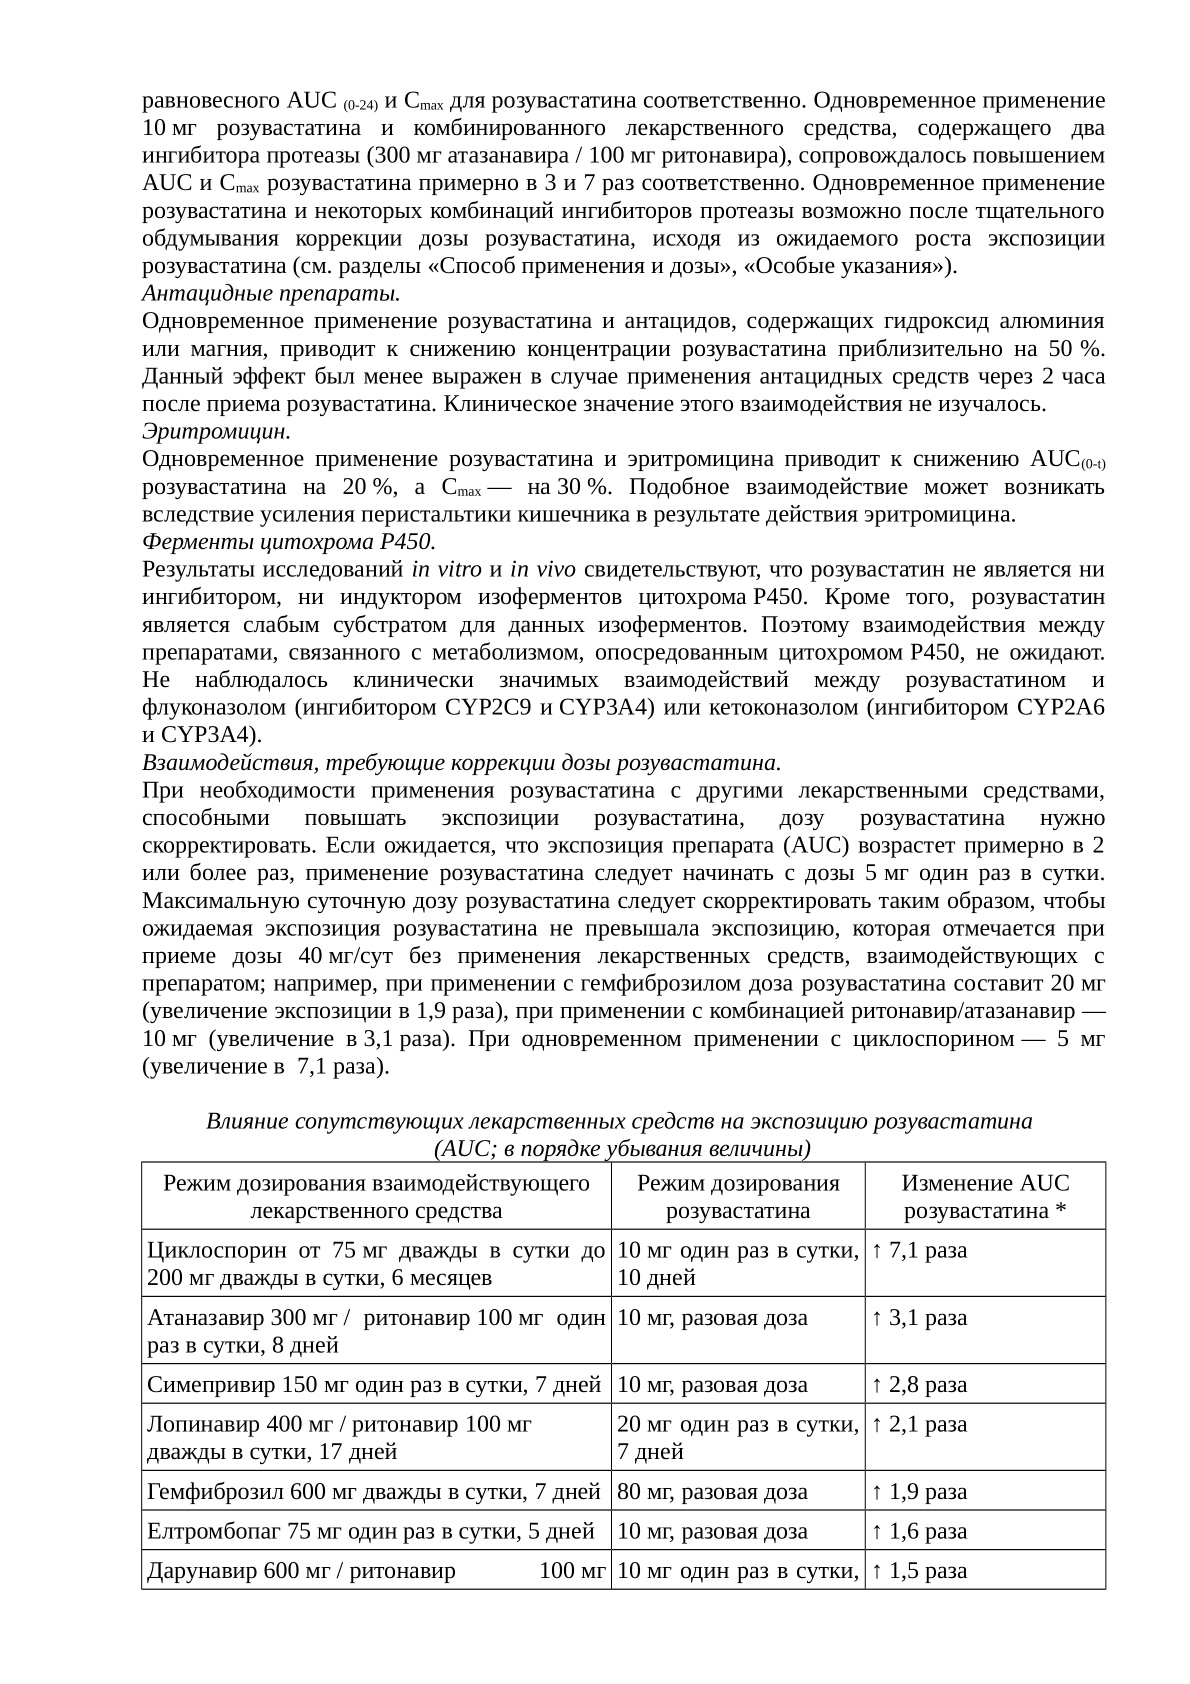full_lined: (140, 1160, 1108, 1591)
